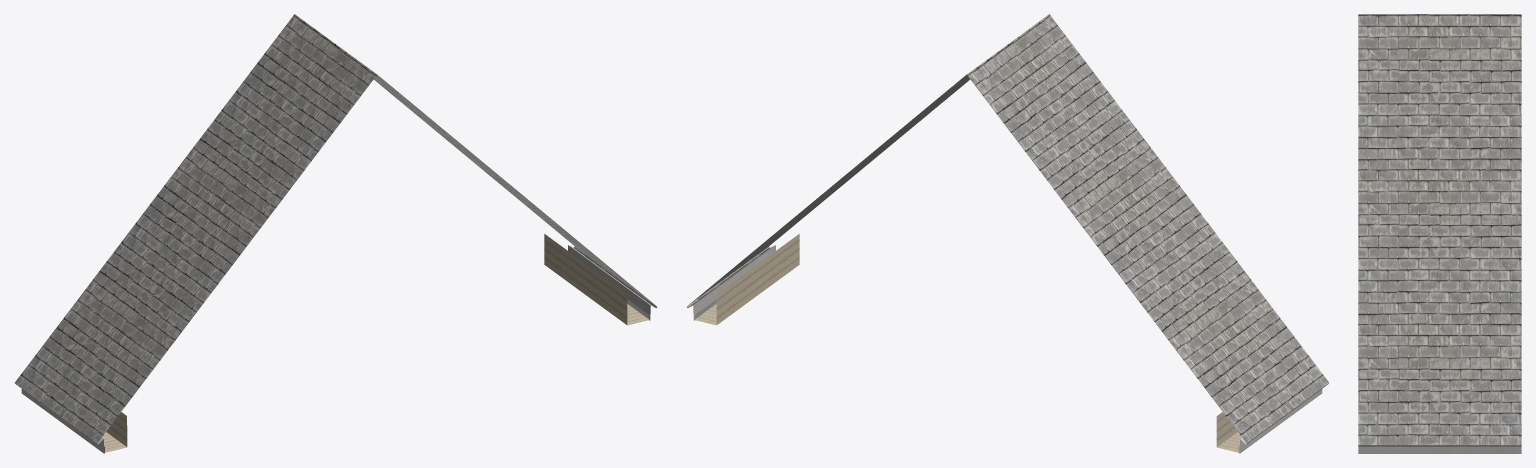
The model's file is Roof_7x_COL.FBX.
The picture shows the model from 3 angles, left to right: view 1: azimuth 30°, elevation 25°; view 2: azimuth 150°, elevation 25°; view 3: azimuth 270°, elevation 25°; orthographic projection.
Parts seen in each view (by area): view 1: Roof_7x_COL; view 2: Roof_7x_COL; view 3: Roof_7x_COL.
Boxes of the visible parts, x1,y1,x2,y2 form: Roof_7x_COL: [15, 14, 656, 453]; Roof_7x_COL: [687, 14, 1328, 453]; Roof_7x_COL: [1358, 14, 1521, 453].
Bounding box in the file's own units: 784 × 418 × 201.
